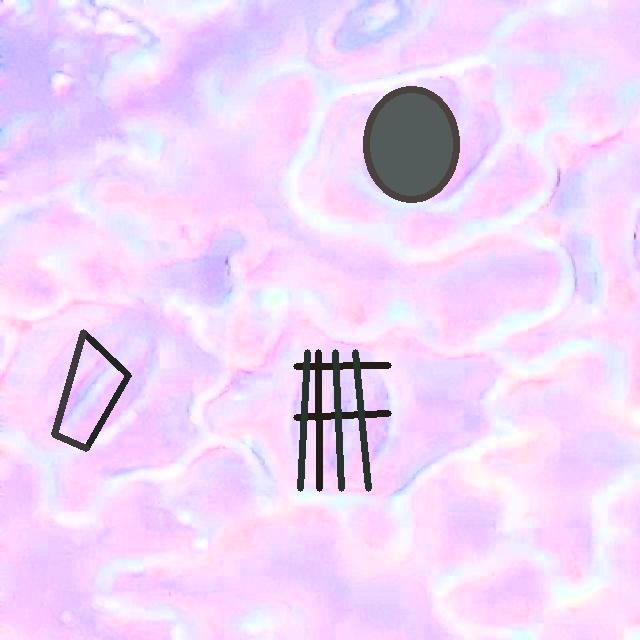open: (293, 350, 391, 491), (363, 86, 458, 201), (51, 330, 131, 450)
